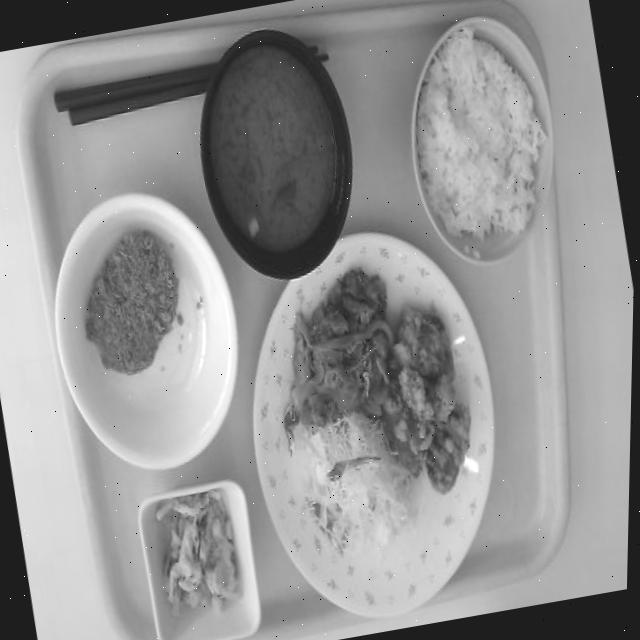汤锅炖物: (180, 28, 390, 302)
炸货点心: (16, 181, 257, 480)
猪肉菜式: (269, 250, 420, 433)
米饭主食: (384, 0, 577, 279)
蔬菜料理: (271, 393, 468, 600)
鸡肉料理 含炸鸡: (361, 294, 509, 506)
